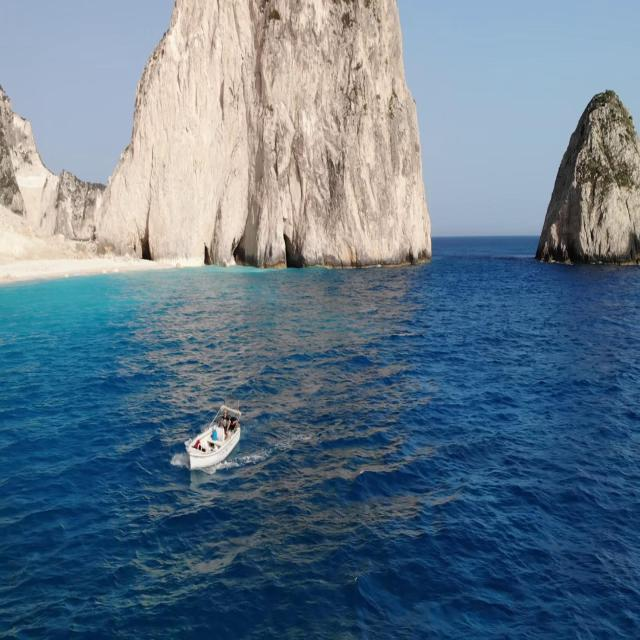boat: (178, 406, 250, 478)
